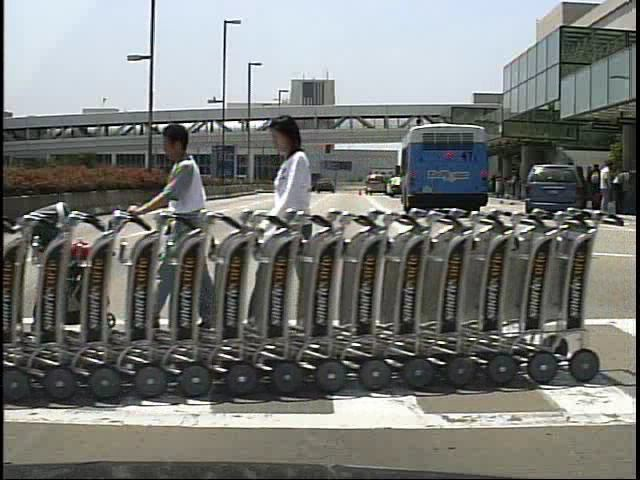person: (259, 115, 336, 349), (135, 120, 216, 338), (597, 160, 617, 212), (587, 164, 604, 212)
